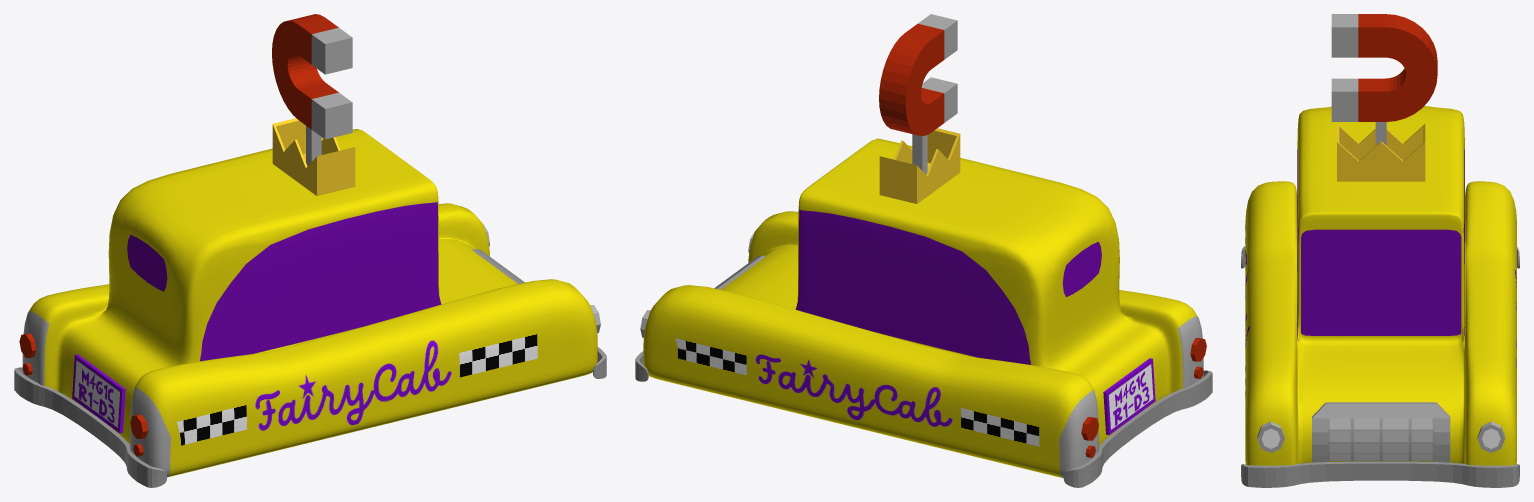
File: Taxi.obj
3 views of the same model, side by side, from view 1: azimuth 30°, elevation 25°; view 2: azimuth 150°, elevation 25°; view 3: azimuth 270°, elevation 25° (orthographic). The views are drawn at different scales.
Visible parts, largest first — view 1: Cube, Cylinder, Cube.002, Cube.001, Cube.004, Cylinder.001; view 2: Cube, Cylinder, Cube.002, Cube.001, Cube.004, Cylinder.001; view 3: Cube, Cylinder, Cube.001, Cube.002, Cube.003, Cylinder.001.
Boxes of the visible parts, <box> form: Cube: <box>22,129,597,477</box>; Cylinder: <box>272,14,352,139</box>; Cube.002: <box>272,118,355,195</box>; Cube.001: <box>14,347,606,487</box>; Cube.004: <box>72,354,125,433</box>; Cylinder.001: <box>19,224,600,456</box>; Cube: <box>643,138,1203,478</box>; Cylinder: <box>879,14,957,136</box>; Cube.002: <box>879,128,960,203</box>; Cube.001: <box>635,351,1212,487</box>; Cube.004: <box>1103,358,1155,434</box>; Cylinder.001: <box>640,231,1206,457</box>; Cube: <box>1245,106,1516,465</box>; Cylinder: <box>1331,14,1437,121</box>; Cube.001: <box>1241,246,1519,487</box>; Cube.002: <box>1337,122,1425,181</box>; Cube.003: <box>1312,402,1450,462</box>; Cylinder.001: <box>1257,421,1505,452</box>.
Bounding box in the file's own units: 3.86 × 2.86 × 2.02.
